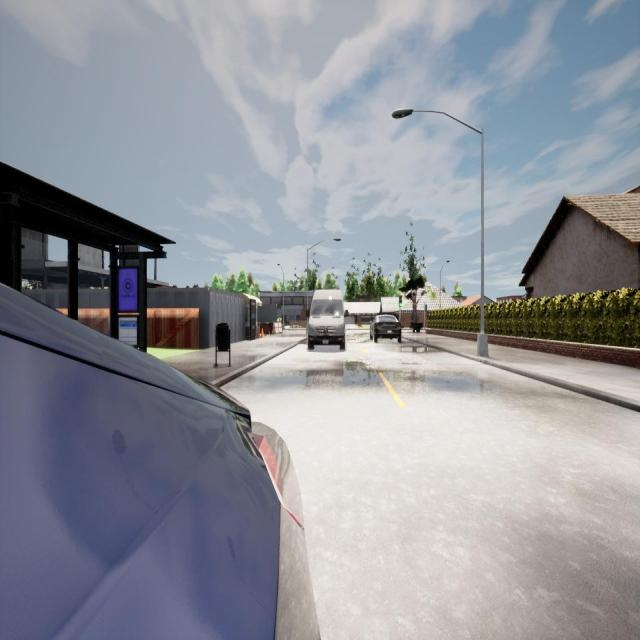Vehicle: (0, 284, 319, 638), (306, 289, 350, 351), (369, 314, 402, 344)
traffic_light: (399, 295, 402, 307), (425, 304, 427, 313)
